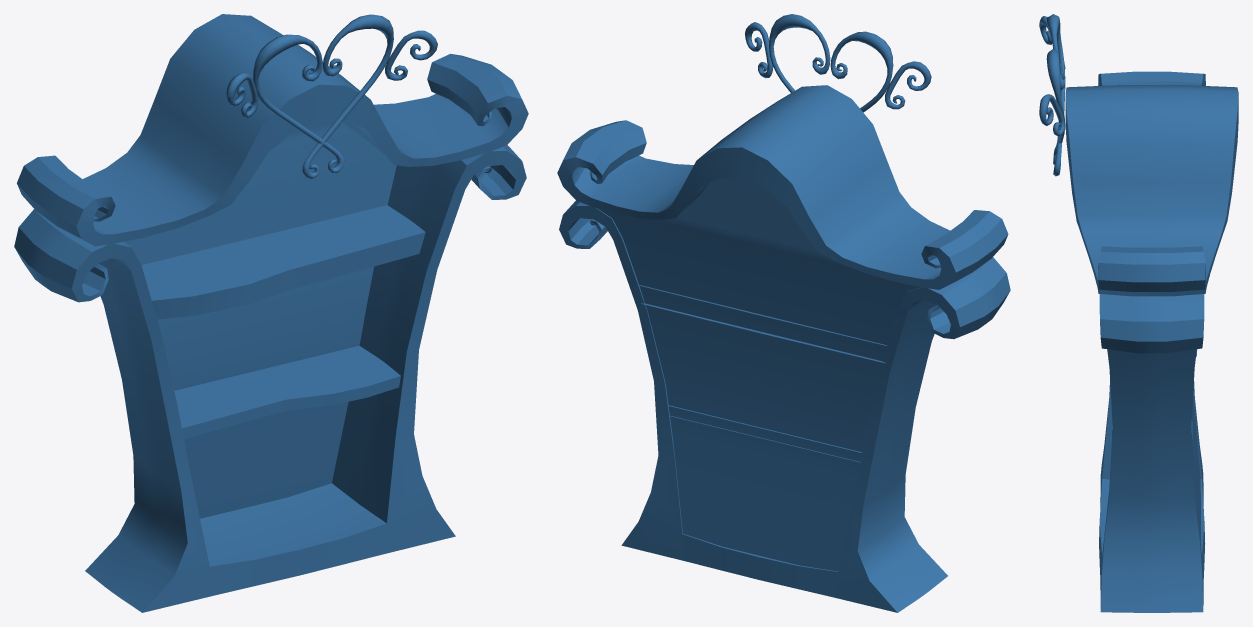
File: Mesh_Estante.fbx
The picture shows the model from 3 angles, left to right: view 1: azimuth 30°, elevation 25°; view 2: azimuth 150°, elevation 25°; view 3: azimuth 270°, elevation 25°; orthographic projection. The views are drawn at different scales.
Parts seen in each view (by area): view 1: Mesh_Estante_v001; view 2: Mesh_Estante_v001; view 3: Mesh_Estante_v001.
Part boxes in pixels (<box>): Mesh_Estante_v001: <box>14,14,528,612</box>; Mesh_Estante_v001: <box>557,14,1010,612</box>; Mesh_Estante_v001: <box>1039,14,1238,612</box>.
Bounding box in the file's own units: 6.69 × 7.69 × 2.73.
